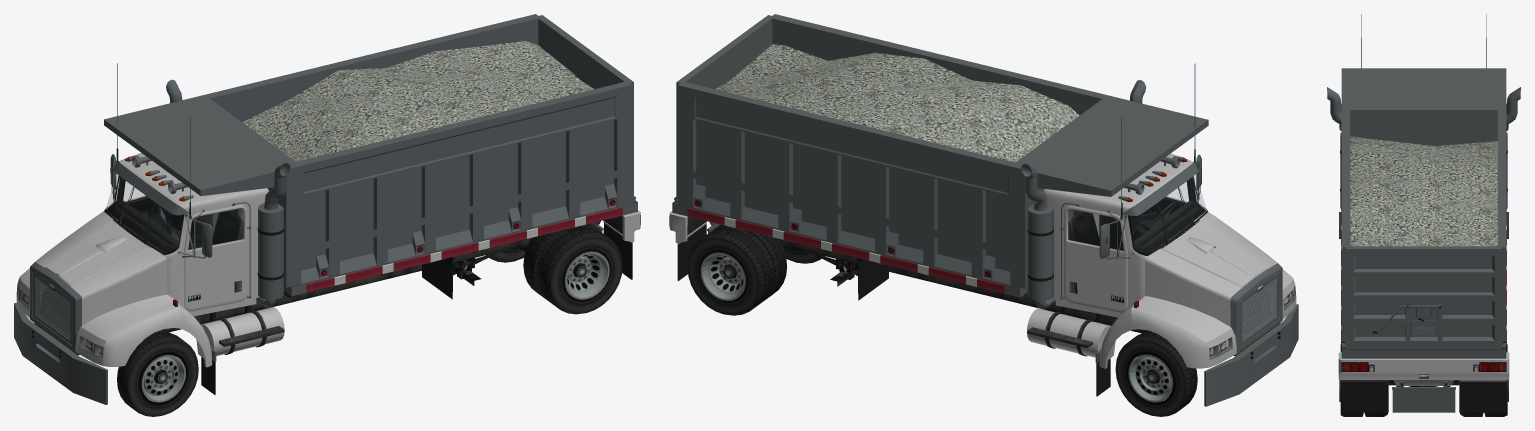
File: models__biff_mdl_skin0.gltf
The picture shows the model from 3 angles, left to right: view 1: azimuth 30°, elevation 25°; view 2: azimuth 150°, elevation 25°; view 3: azimuth 270°, elevation 25°; orthographic projection. The views are drawn at different scales.
Visible parts, largest first — view 1: models__biff_mdl; view 2: models__biff_mdl; view 3: models__biff_mdl.
Part boxes in pixels (x1,y1,x2,y2): models__biff_mdl: [14, 14, 640, 416]; models__biff_mdl: [669, 14, 1298, 416]; models__biff_mdl: [1327, 14, 1520, 416].
Bounding box in the file's own units: 6.97 × 3.44 × 2.52.
7 materials, 7 textured.
